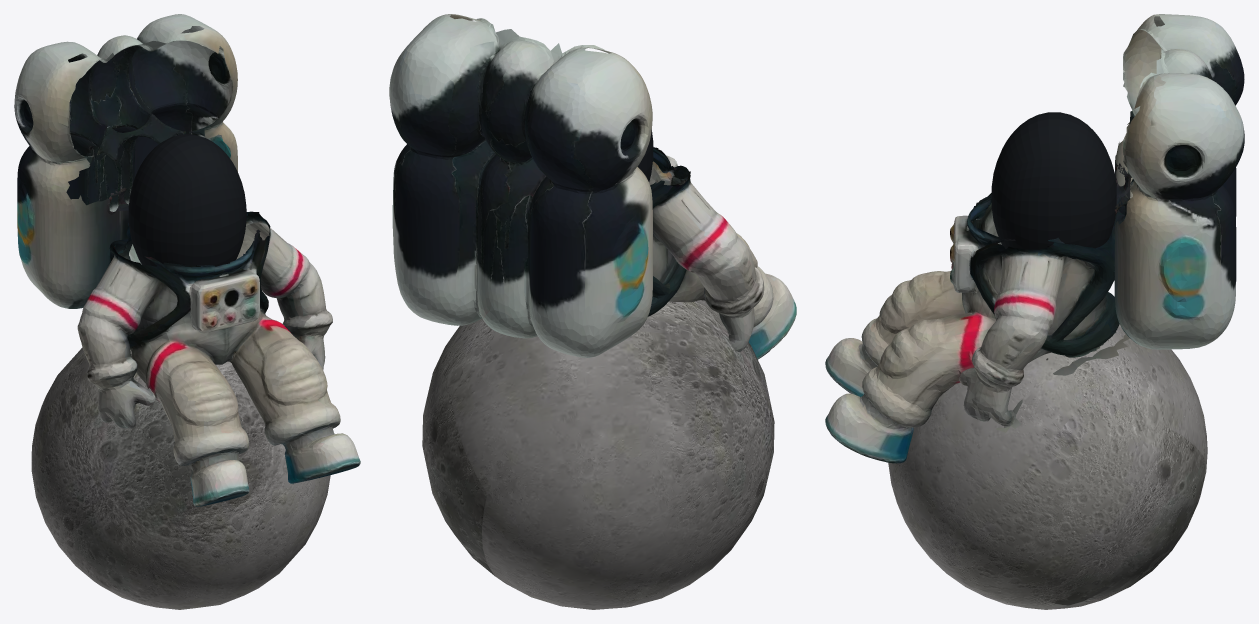
The model's file is astronaut_body.glb.
3 views of the same model, side by side, from view 1: azimuth 30°, elevation 25°; view 2: azimuth 150°, elevation 25°; view 3: azimuth 270°, elevation 25° (orthographic). The views are drawn at different scales.
Visible parts, largest first — view 1: Mesh_2, Mesh_2_1, Mesh_2_2; view 2: Mesh_2, Mesh_2_1; view 3: Mesh_2, Mesh_2_1, Mesh_2_2.
Boxes of the visible parts, <box> form: Mesh_2: <box>14,14,360,506</box>; Mesh_2_1: <box>31,347,330,609</box>; Mesh_2_2: <box>128,134,246,266</box>; Mesh_2: <box>389,14,796,359</box>; Mesh_2_1: <box>422,300,774,609</box>; Mesh_2: <box>825,14,1244,463</box>; Mesh_2_1: <box>888,324,1207,609</box>; Mesh_2_2: <box>991,112,1116,258</box>.
Size of the model in its own units: 1.02 by 1.93 by 1.34.
3 materials, 2 textured.
